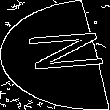N_E: (7, 32, 103, 78)
